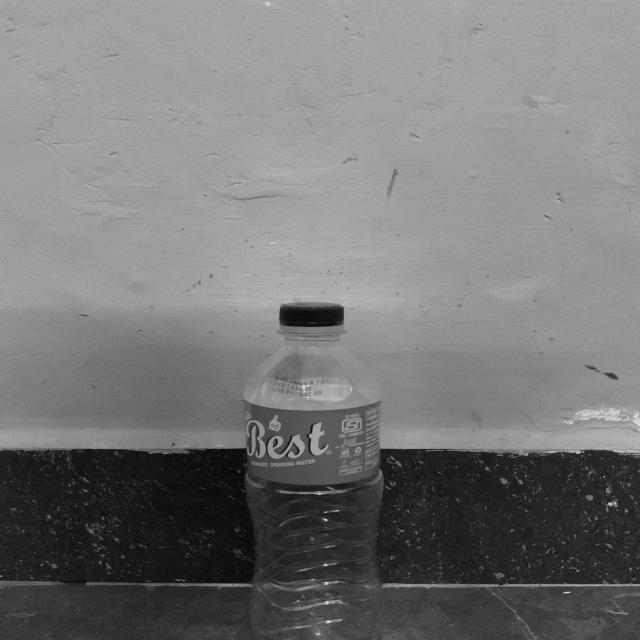Good-cap-Df0S: (274, 300, 352, 338)
